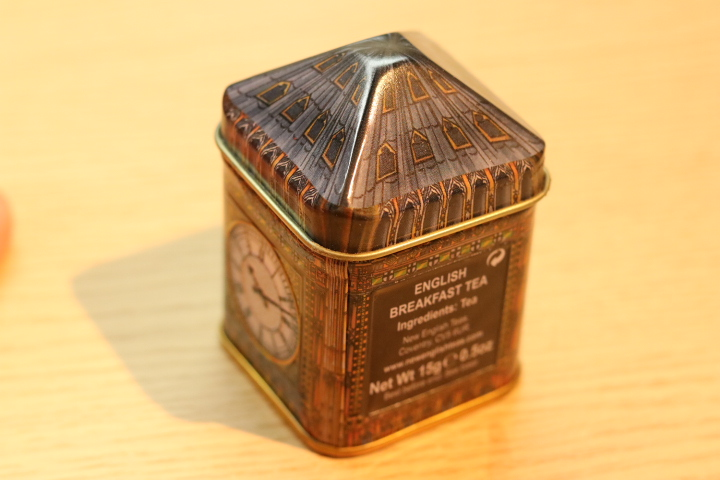Big Ben: (181, 18, 566, 468)
